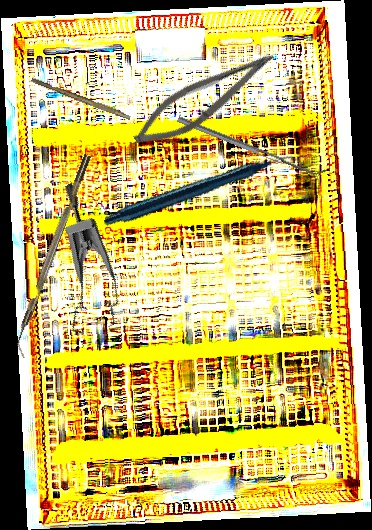Chopper: (8, 153, 101, 359)
Handpiece: (102, 107, 303, 276)
Micro Scissor: (125, 33, 282, 161)
Scalpel Handle: (29, 77, 133, 120)
Spatula Surgical: (176, 110, 328, 181)
Speculum: (8, 181, 148, 350)
